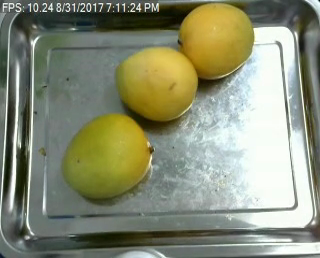Mango: (61, 106, 157, 204), (171, 0, 262, 82), (115, 45, 201, 123)
